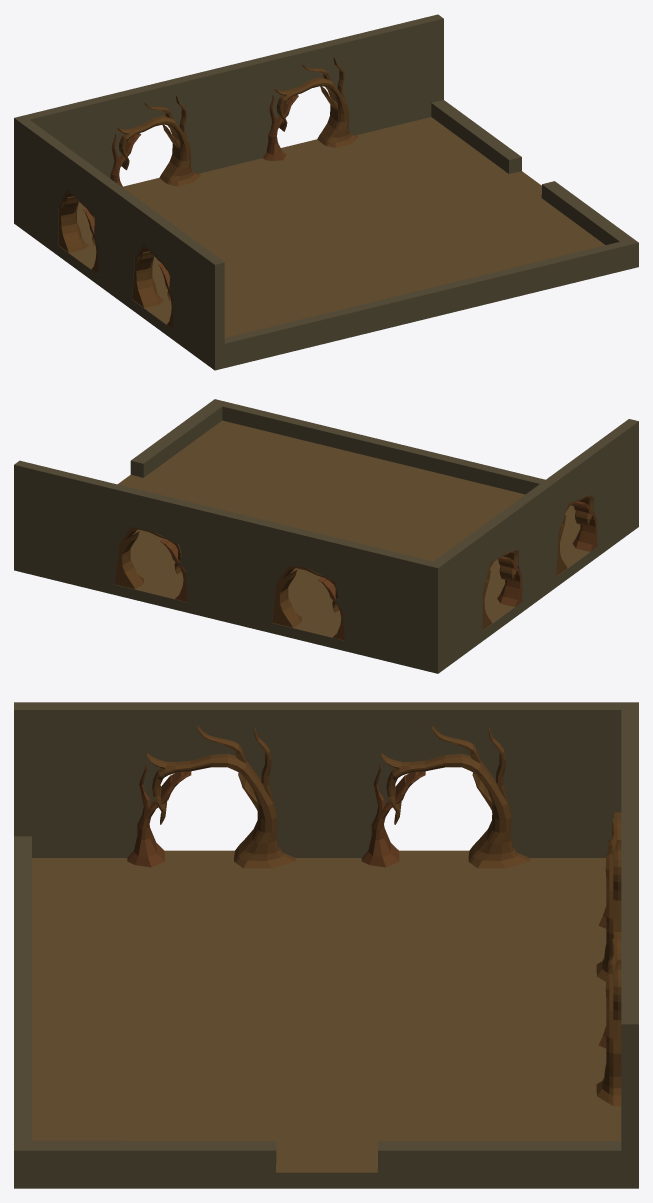
The model's file is salaGrandeCuatroPuertasNaturaleza.fbx.
3 views of the same model, one above another, from view 1: azimuth 30°, elevation 25°; view 2: azimuth 150°, elevation 25°; view 3: azimuth 270°, elevation 25° (orthographic). The views are drawn at different scales.
Parts seen in each view (by area): view 1: Cubo.027, Cubo.034, Cubo.030, Cubo.029, Cubo.031, Cubo.028, ARBOL.017, ARBOL.016; view 2: Cubo.027, Cubo.034, Cubo.029, Cubo.030, ARBOL.015, ARBOL.018, Cubo.031, Cubo.028, ARBOL.017; view 3: Cubo.034, Cubo.027, Cubo.031, Cubo.028, Cubo.030, Cubo.029, ARBOL.015, ARBOL.018.
Boxes of the visible parts, x1,y1,x2,y2 form: Cubo.027: (14, 14, 638, 370); Cubo.034: (59, 117, 605, 337); Cubo.030: (274, 57, 358, 147); Cubo.029: (116, 96, 200, 186); Cubo.031: (132, 244, 170, 307); Cubo.028: (58, 189, 95, 252); ARBOL.017: (263, 94, 298, 160); ARBOL.016: (110, 133, 141, 188); Cubo.027: (14, 399, 638, 673); Cubo.034: (115, 420, 589, 640); Cubo.029: (272, 565, 339, 627); Cubo.030: (114, 526, 181, 589); ARBOL.015: (497, 556, 522, 606); ARBOL.018: (572, 501, 597, 551); Cubo.031: (556, 494, 593, 576); Cubo.028: (482, 550, 518, 629); ARBOL.017: (160, 538, 187, 601); Cubo.034: (32, 850, 621, 1172); Cubo.027: (14, 702, 638, 1188); Cubo.031: (147, 725, 295, 868); Cubo.028: (381, 725, 529, 868); Cubo.030: (596, 932, 621, 1106); Cubo.029: (596, 812, 621, 981); ARBOL.015: (361, 764, 425, 867); ARBOL.018: (127, 764, 191, 867).
Bounding box in the file's own units: 2560 × 609 × 2100.
